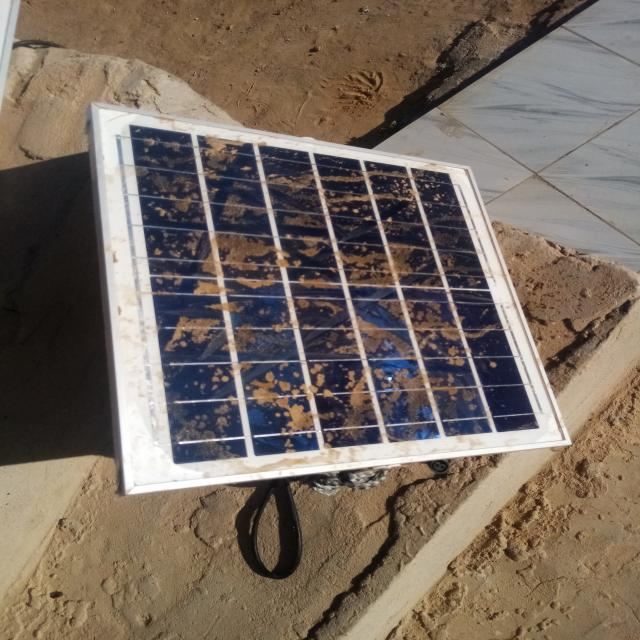faulty: (92, 106, 572, 495)
